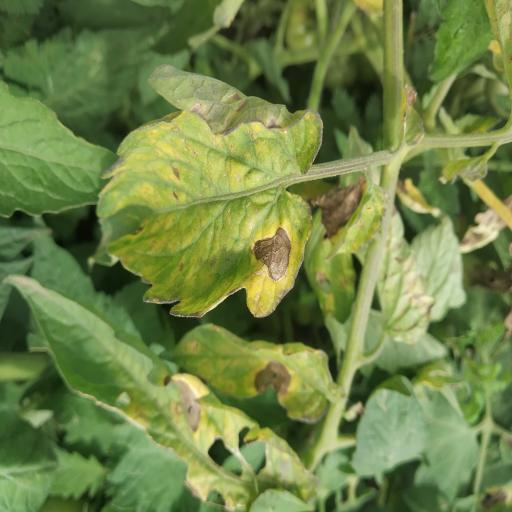disease_tomato: (98, 65, 314, 319), (158, 318, 338, 430)
